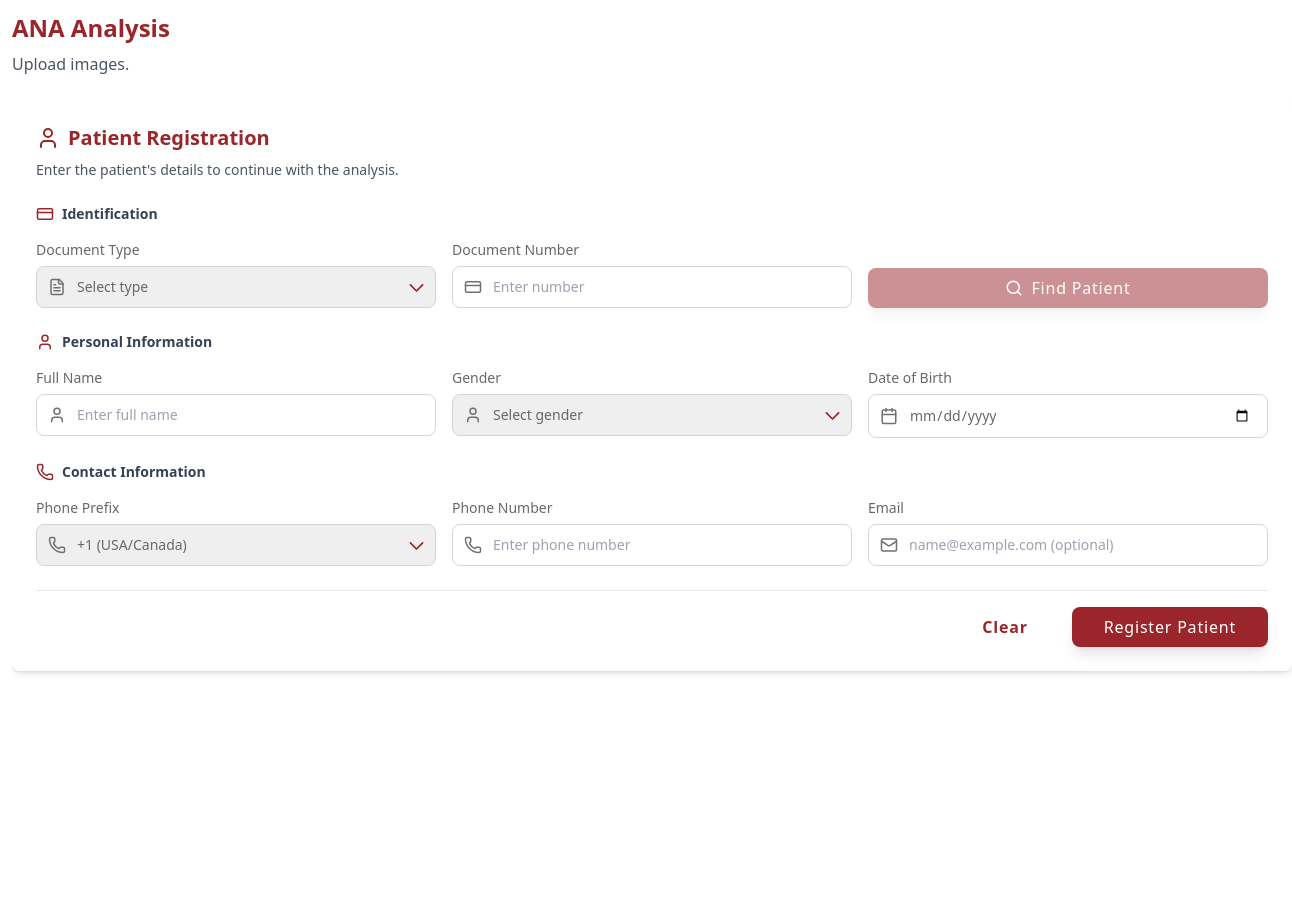
Test: AnalysisPage › keeps each dilution with its own image after an earlier image is removed
Later steps or results of the test are not shown.
Select "Passport" in the dropdown labelled "Document Type" at (236, 287), box 36,266 -> 436,308
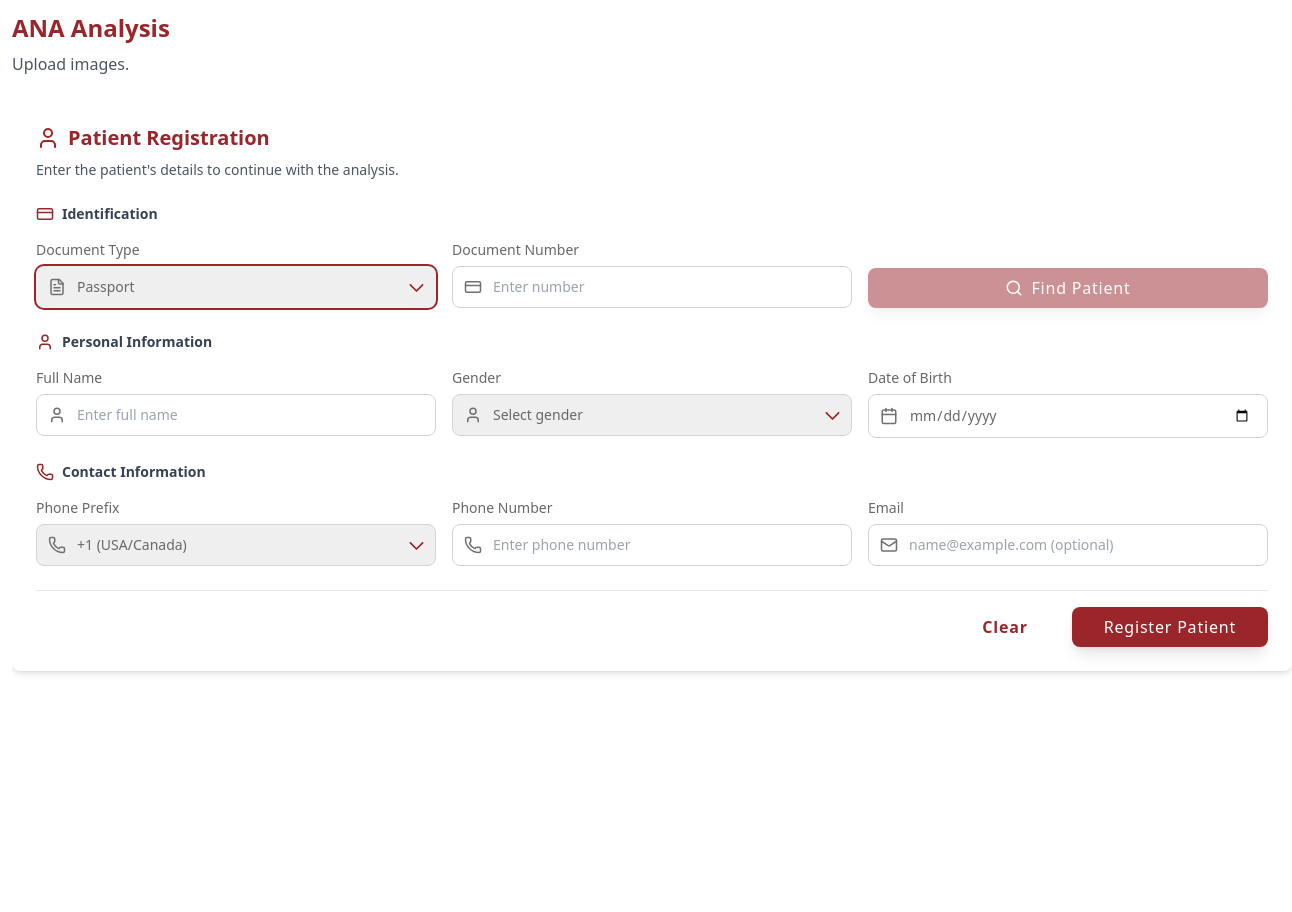
Type "X1234567" into the field labelled "Document Number" at (652, 287), box 452,266 -> 852,308
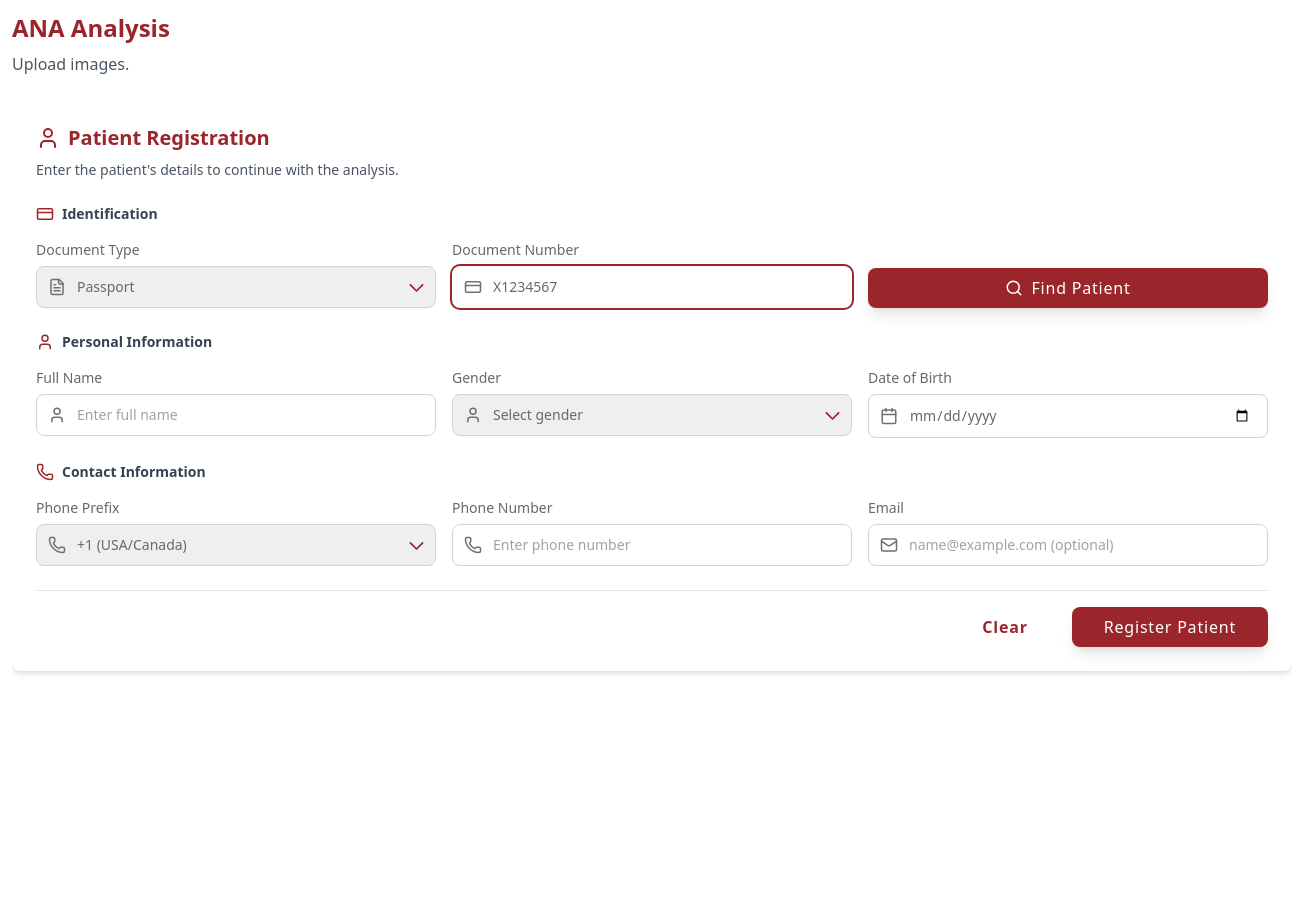
Click the button "Find Patient" at (1068, 288), box 868,268 -> 1268,308
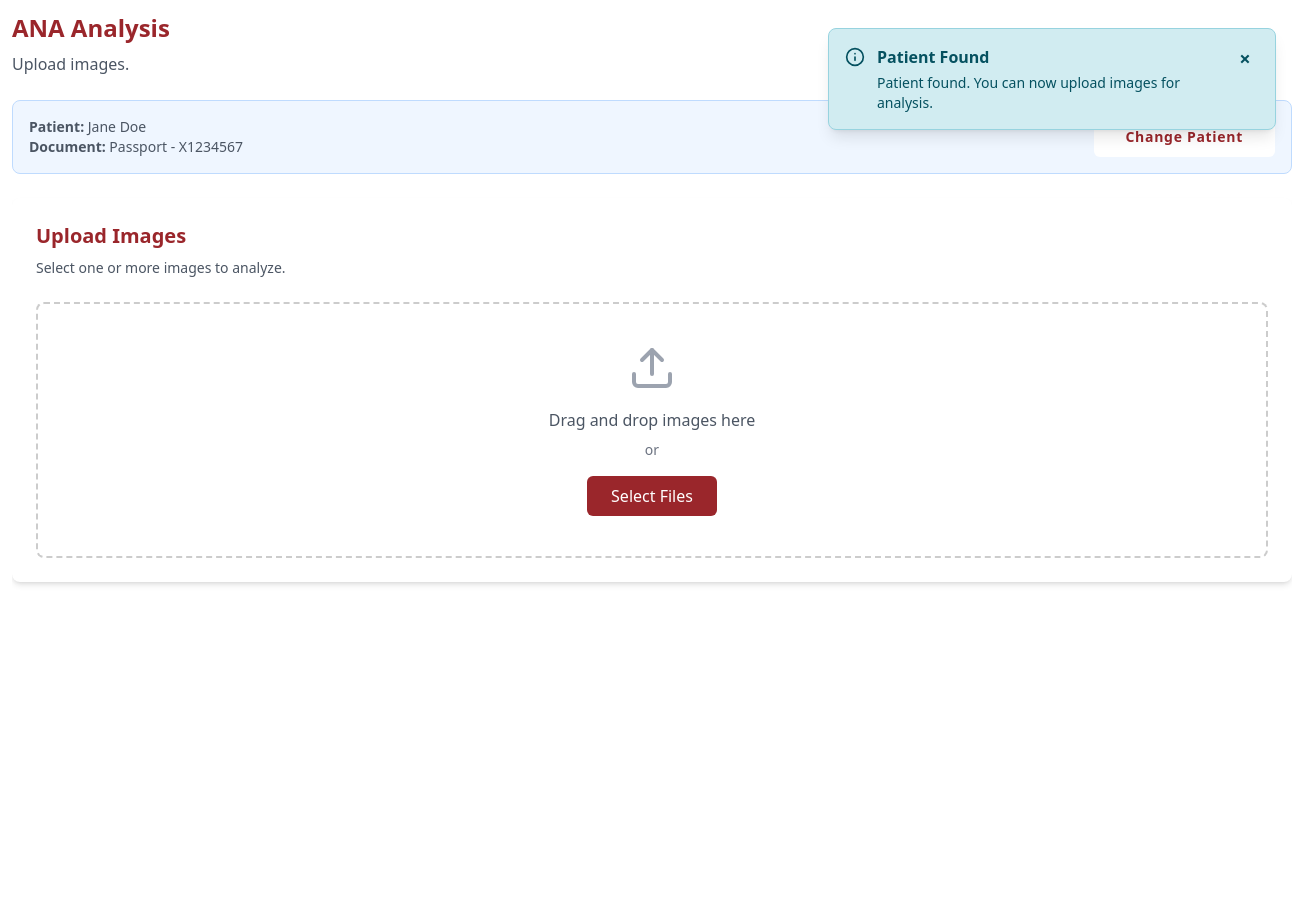
Check: the heading "Upload Images" is shown, box 36,222 -> 186,249
